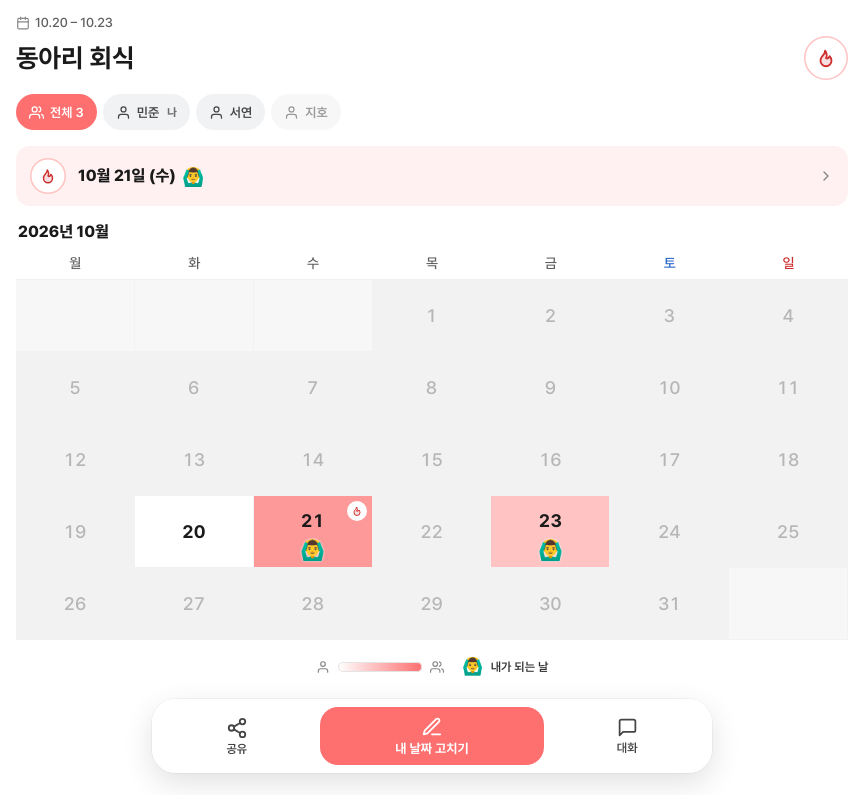
Test: 내 날짜 고르기 › 누르면 고르기·다시 누르면 지움, 요일 글자는 그 달 그 요일 전부, 저장하면 날짜 값으로 보낸다
Expected: the heading "동아리 회식" is shown, [16,42,134,74]
Click the button with aria-label "내 날짜 고치기, 지금 2일" at [432, 736], box [320,707,544,765]
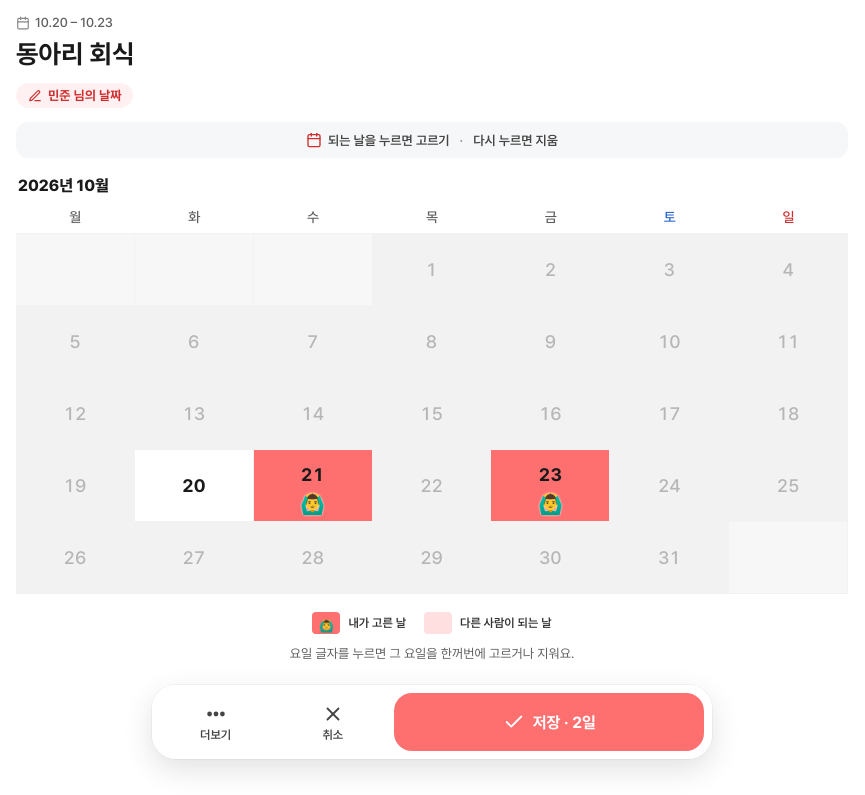
Expected: the text "민준 님의 날짜" is shown, [16,83,133,108]
Expected: the text "되는 날을 누르면 고르기 · 다시 누르면 지움" is shown, [16,122,848,158]
// 21일 지우고 20일 고르기
Click the button "21 🙆‍♂️" at [313, 486], box [254,450,373,522]
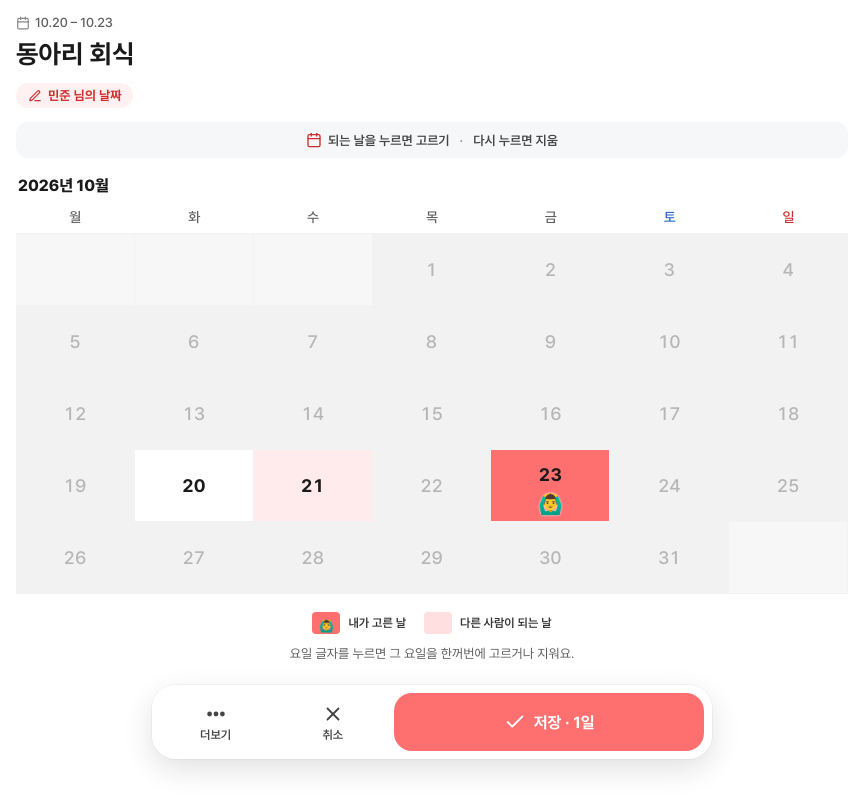
Click the button "20" at [194, 486], box [135,450,254,522]
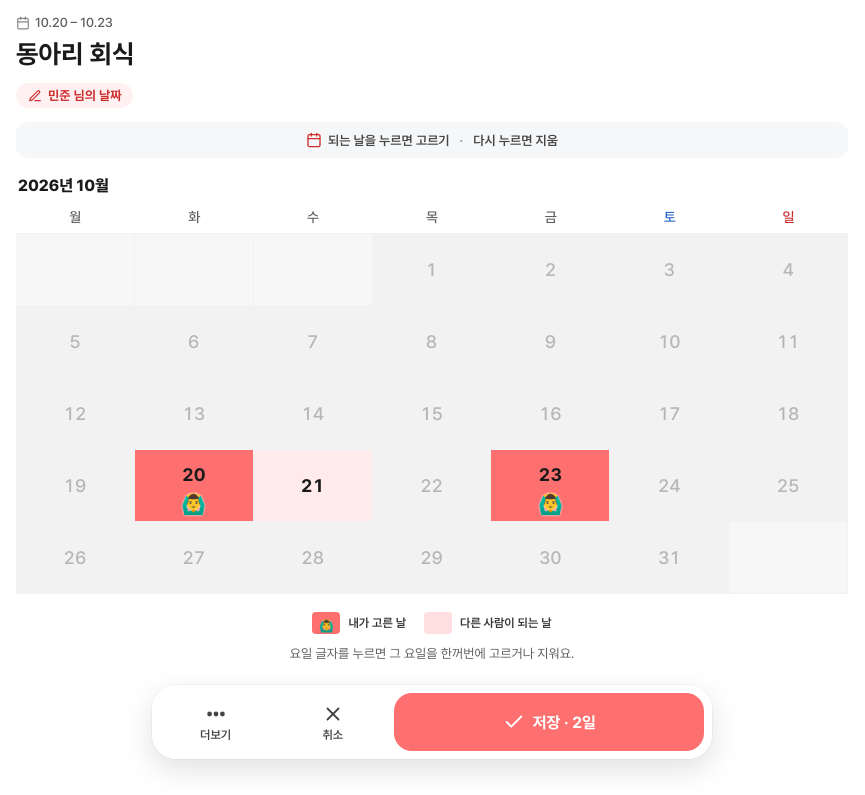
Click the button named "2026년 10월 금요일 전부 고르기·지우기" at [551, 219], box [491,203,610,234]
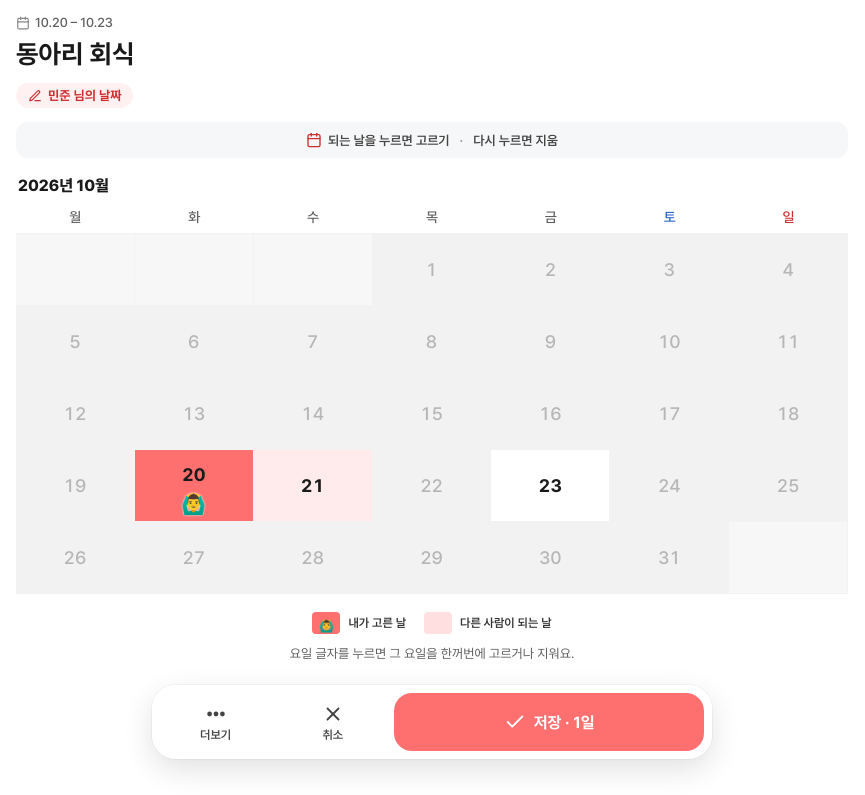
Expected: the button with aria-label "저장하기, 1일" is shown
Click the button with aria-label "저장하기, 1일" at [549, 722], box [394,693,704,751]
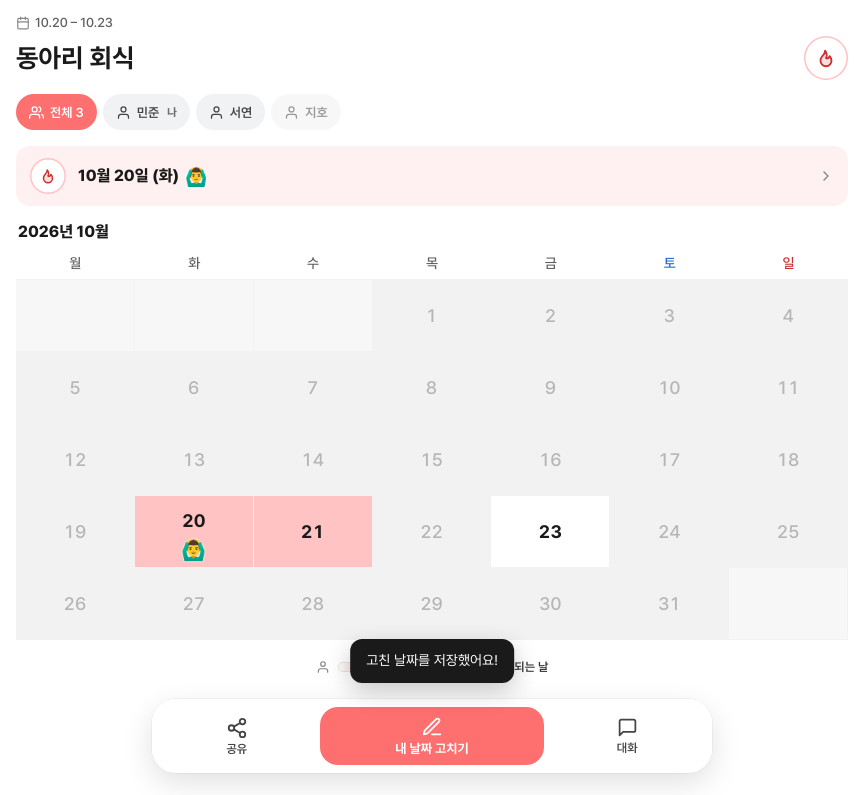
Expected: the text "고친 날짜를 저장했어요!" is shown, [350,639,514,683]
